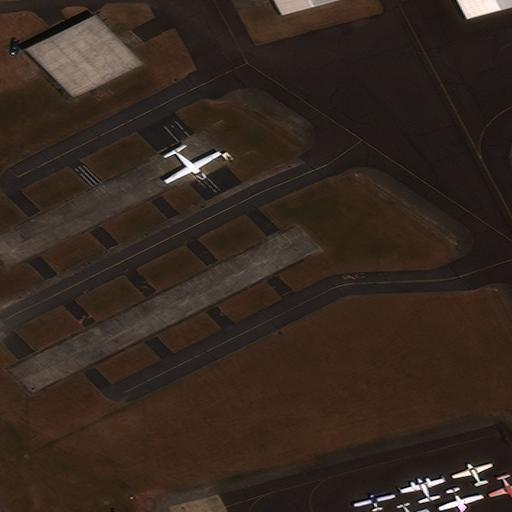Medium Civil Transport: (167, 146, 222, 184)
Small Civil Transport: (400, 476, 442, 504), (440, 487, 484, 511), (450, 462, 490, 486), (351, 493, 393, 511), (490, 473, 512, 498), (398, 502, 427, 511)
